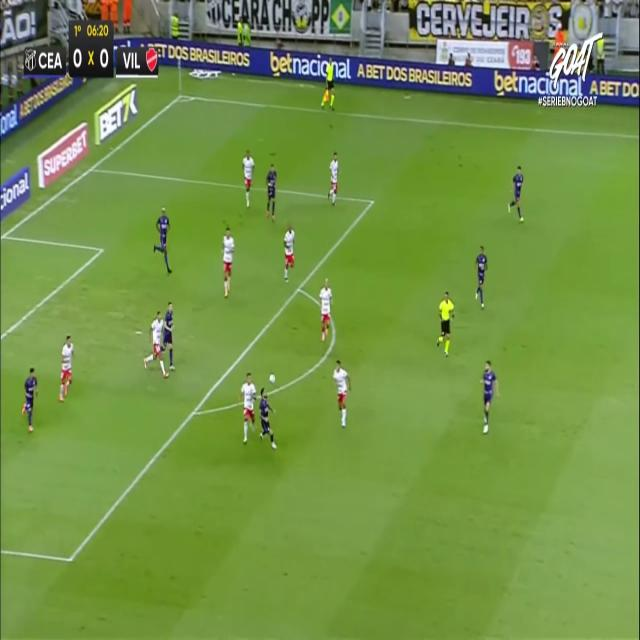ball: (267, 367, 279, 392)
player: (143, 309, 169, 378), (479, 359, 499, 433), (152, 206, 172, 274), (333, 358, 351, 427), (240, 372, 256, 444), (258, 387, 276, 449), (22, 366, 38, 432), (59, 334, 74, 401), (161, 301, 175, 370), (319, 277, 333, 343), (222, 226, 235, 297), (474, 245, 488, 309), (508, 166, 524, 222), (242, 148, 254, 208), (283, 226, 295, 282), (266, 162, 277, 220), (328, 151, 339, 205)
referee: (437, 290, 455, 356), (323, 46, 338, 118)
